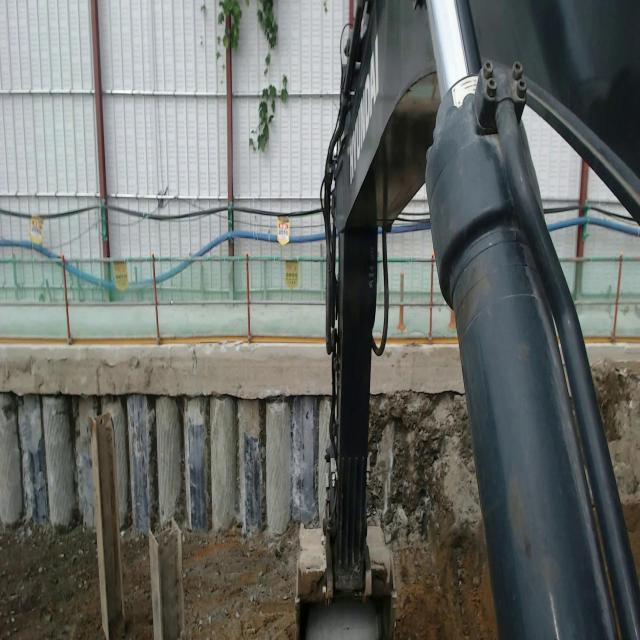red-sand: (391, 480, 496, 639), (183, 529, 298, 639), (0, 527, 104, 639), (121, 530, 153, 639), (624, 504, 640, 574)
